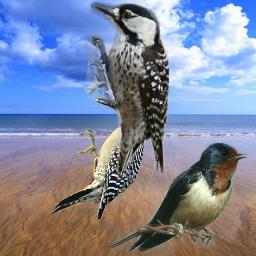Swallow: (108, 142, 248, 252)
Woodpecker: (83, 2, 169, 181), (46, 92, 160, 219)
